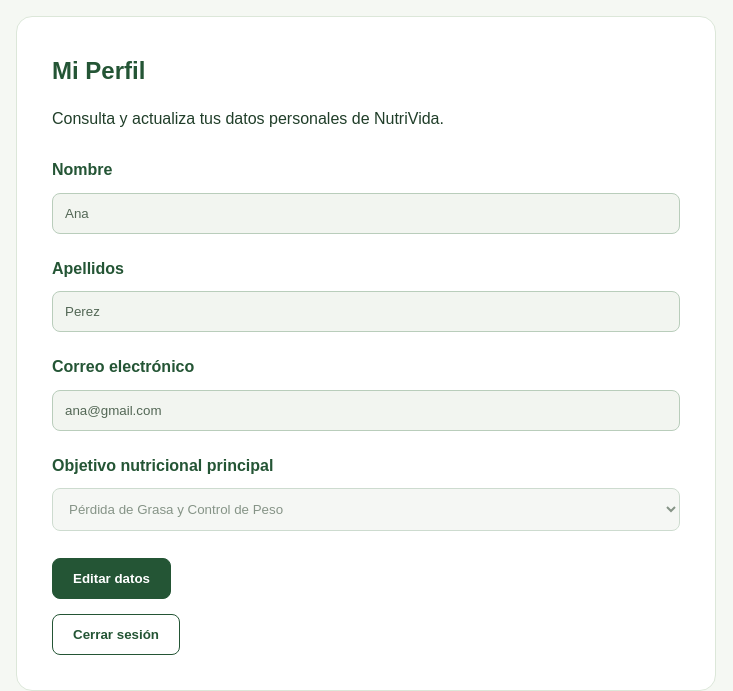
Test case: Mi Perfil de NutriVida › Habilita los campos al presionar Editar datos
Click the button "Editar datos".
click(112, 579)  # box [52,558,171,599]
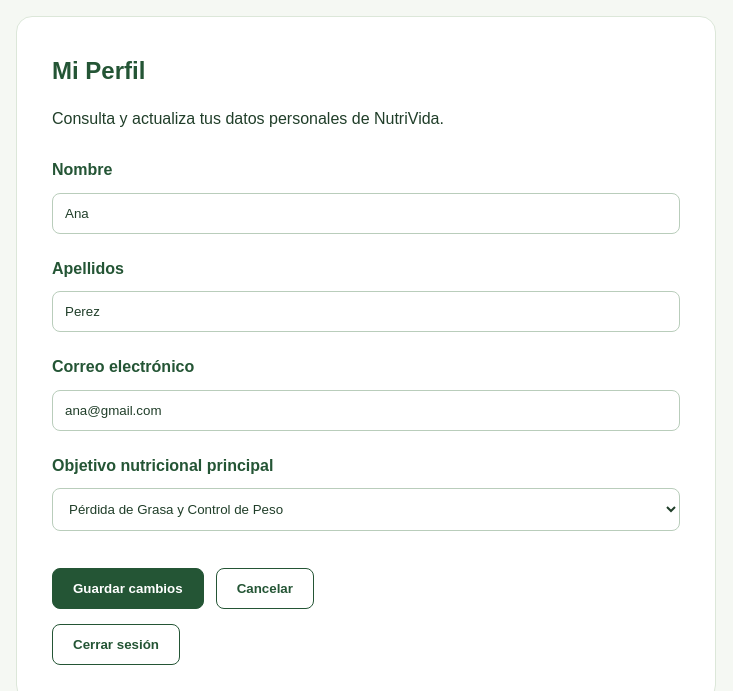
Result: the field labelled "Nombre" is enabled at [52,193,680,234]
Result: the button "Guardar cambios" is shown at [52,568,204,609]
